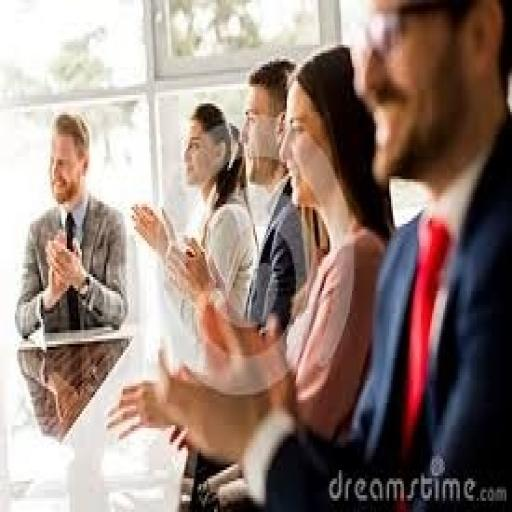clapping: (108, 0, 510, 509), (13, 109, 128, 339)
